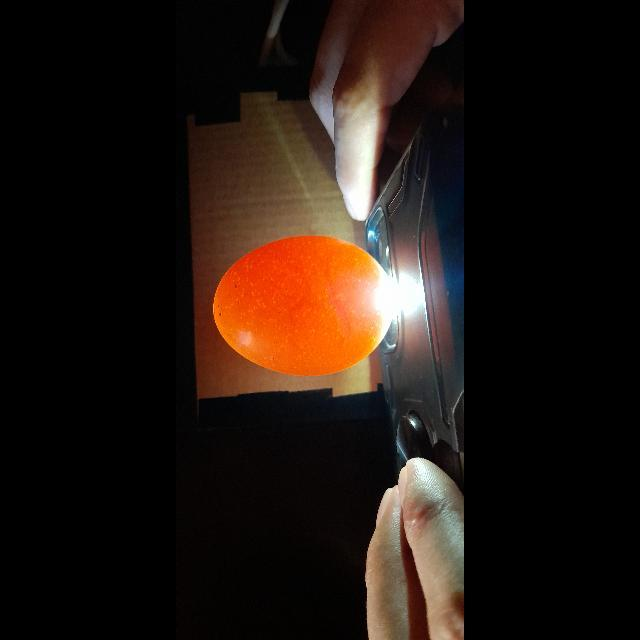Fertile: (207, 224, 385, 376)
